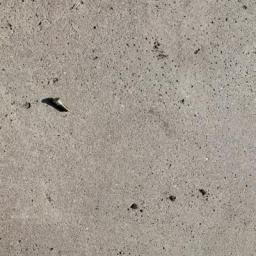FOD: (42, 96, 72, 116)
